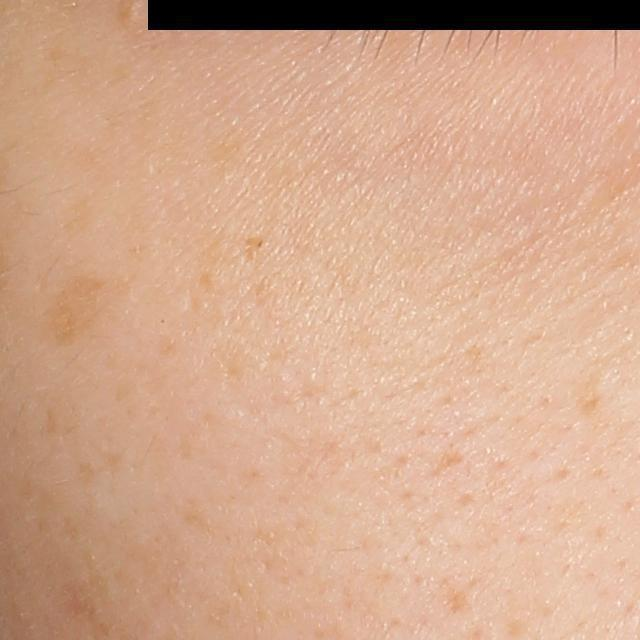melasma: (41, 271, 121, 356), (242, 230, 270, 266)
